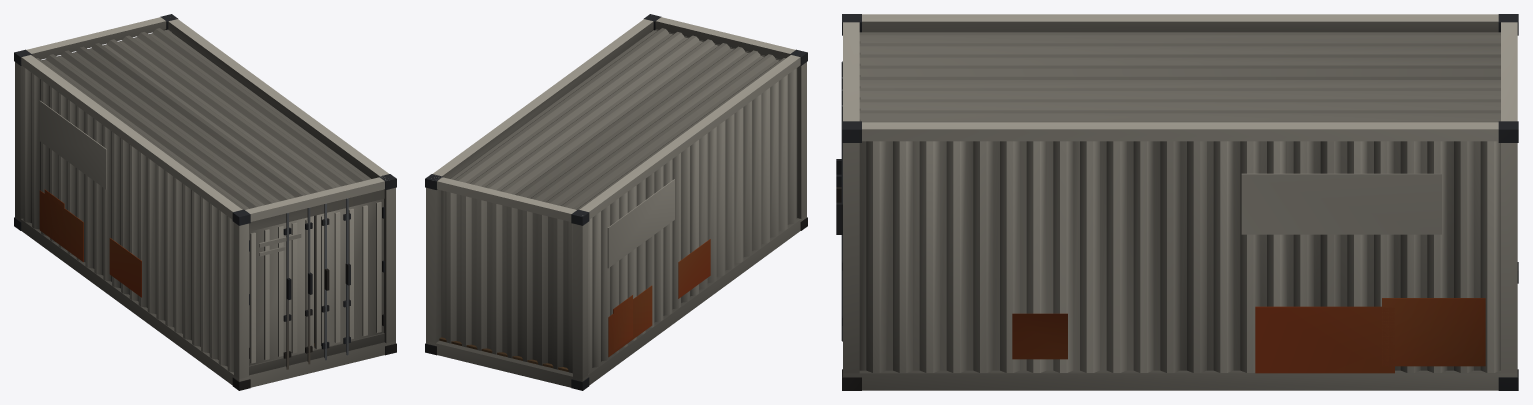
The model's file is shipping_container.glb.
The picture shows the model from 3 angles, left to right: view 1: azimuth 30°, elevation 25°; view 2: azimuth 150°, elevation 25°; view 3: azimuth 270°, elevation 25°; orthographic projection. The views are drawn at different scales.
Visible parts, largest first — view 1: paint, paint2, rust, metal_dark, metal_bare; view 2: paint, rust, paint2, metal_dark, wood; view 3: paint, rust, paint2, metal_dark.
Boxes of the visible parts, box(x1,y1,x2,y2) form: paint: box(15, 17, 395, 387); paint2: box(39, 100, 301, 256); rust: box(39, 189, 141, 297); metal_dark: box(14, 14, 396, 390); metal_bare: box(286, 198, 348, 369); paint: box(426, 17, 806, 387); rust: box(608, 239, 710, 357); paint2: box(607, 179, 674, 268); metal_dark: box(425, 14, 807, 390); wood: box(439, 337, 568, 371); paint: box(843, 14, 1517, 390); rust: box(1012, 298, 1485, 373); paint2: box(1241, 173, 1441, 234); metal_dark: box(836, 14, 1518, 390).
Size of what is drawn, in the model's own units: 2.46 by 2.59 by 6.13.
